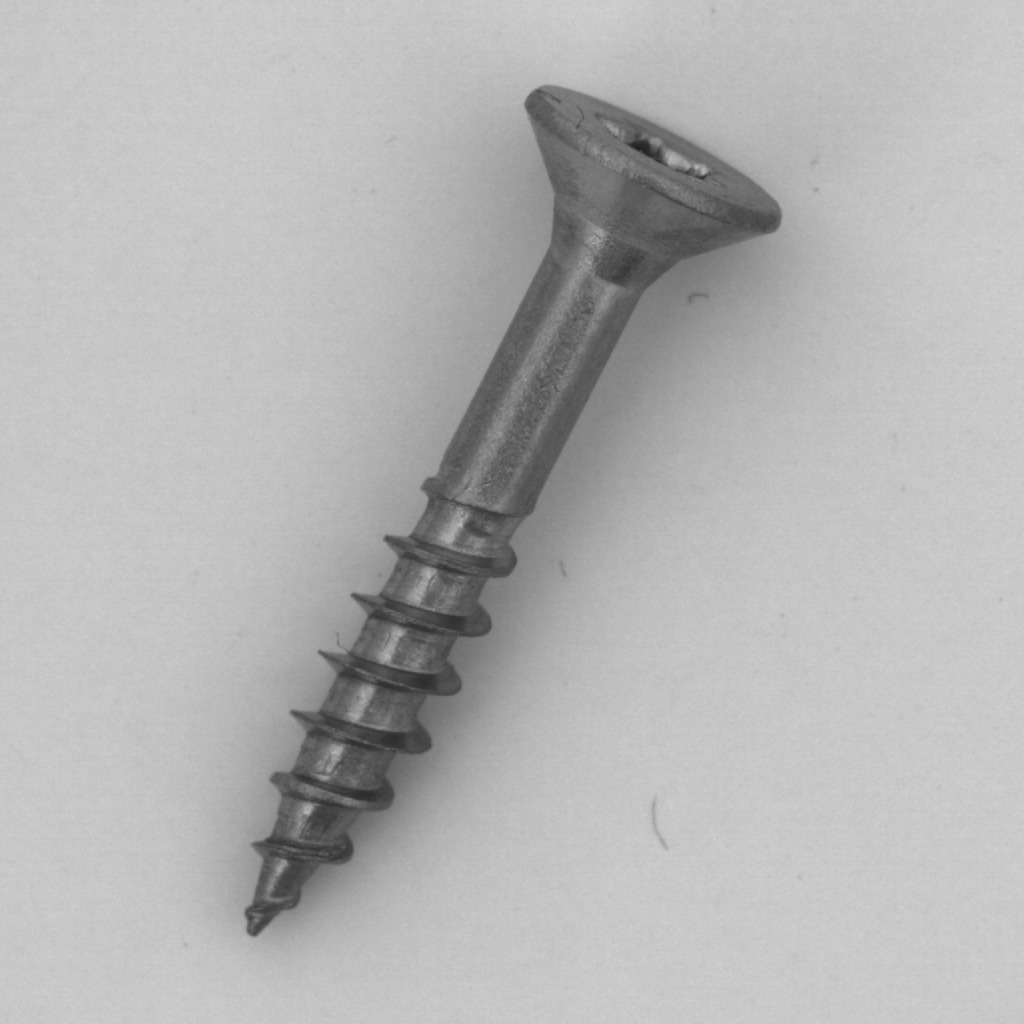good: (215, 69, 800, 958)
